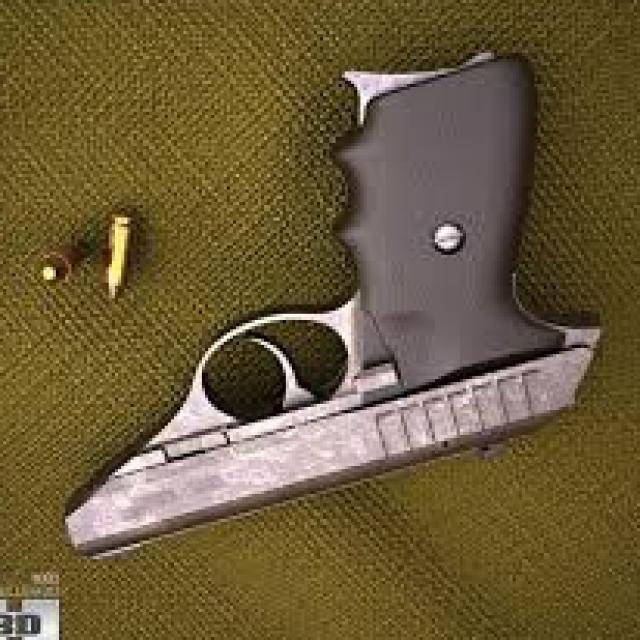Gun: (45, 21, 622, 566)
